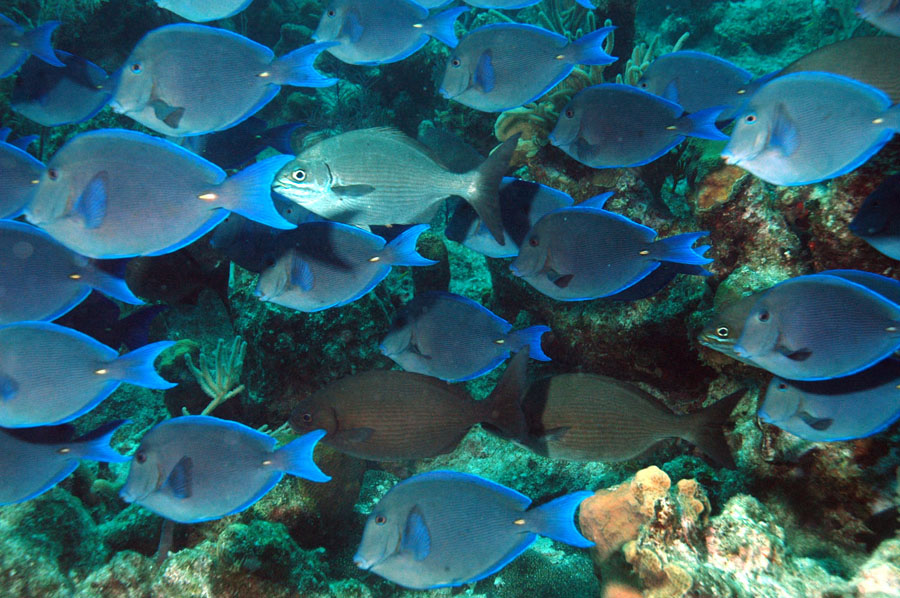Acanthurus_coeruleus: (1, 1, 900, 589)
